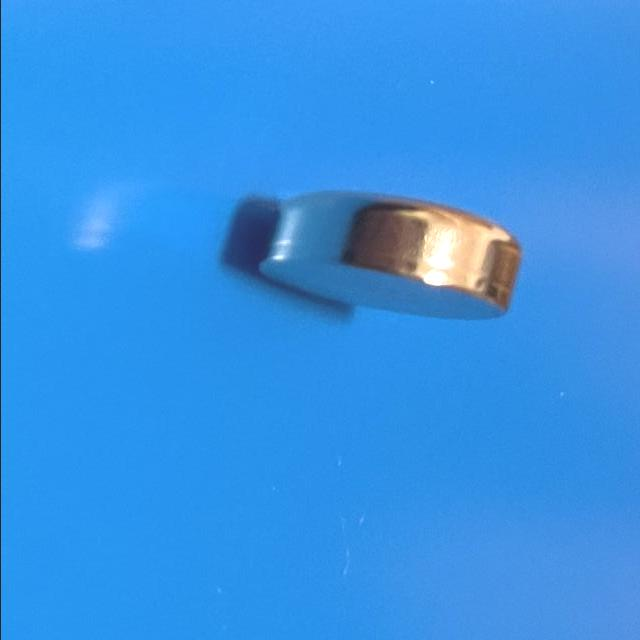COIN: (255, 191, 520, 321)
